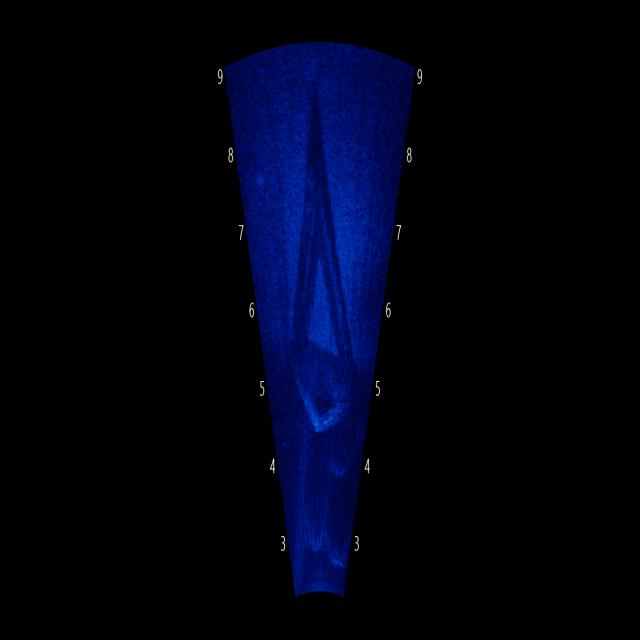triangle: (278, 88, 367, 420)
